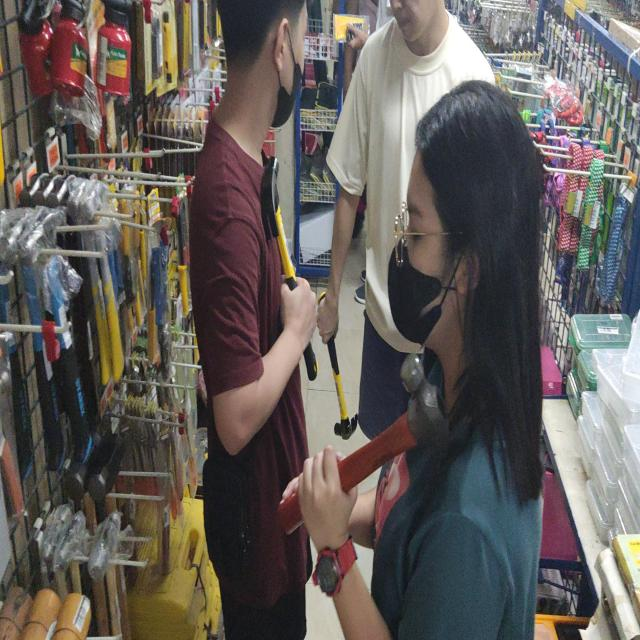hammer: (278, 353, 449, 535), (260, 156, 318, 381), (317, 290, 358, 440)
